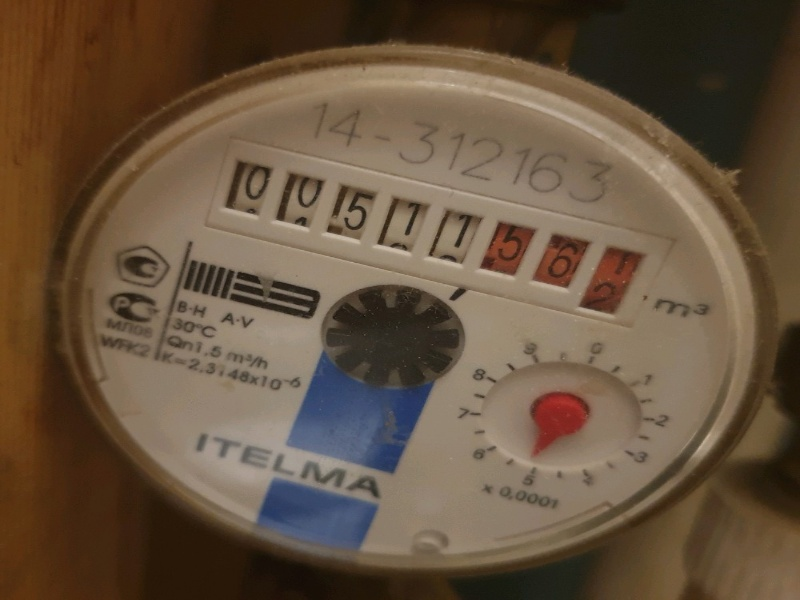meter: (219, 164, 648, 296)
